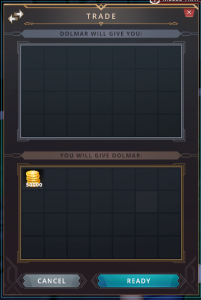gold: (22, 169, 43, 189)
